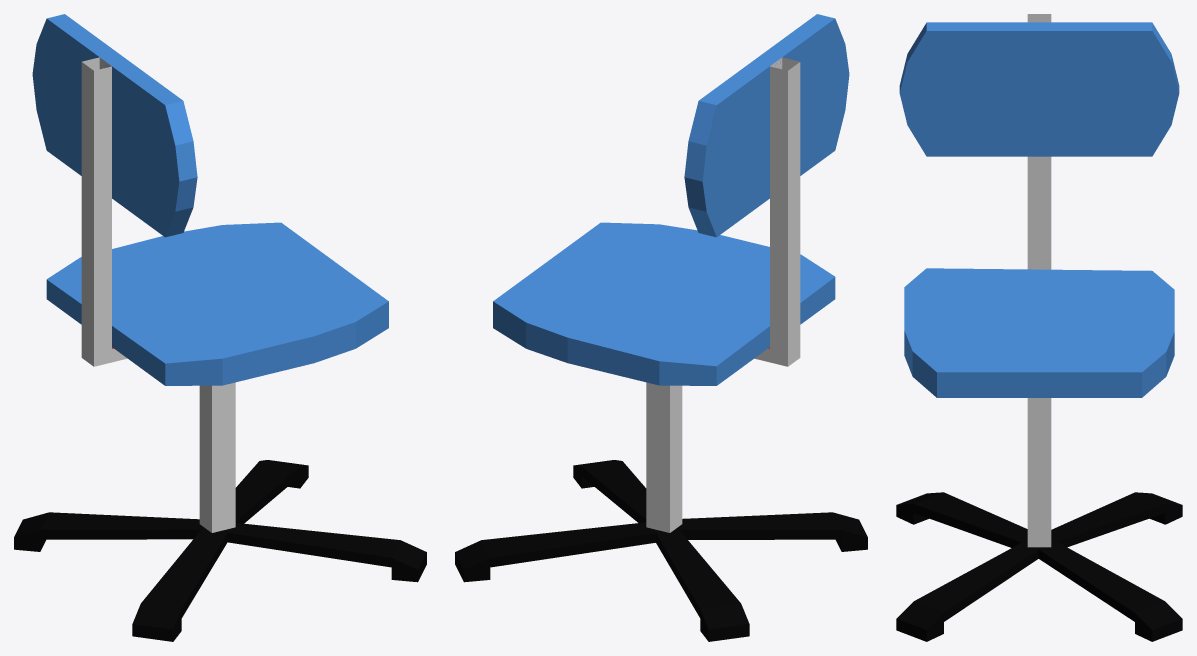
File: Swivel_Chair_Blue.fbx
3 renders of one model, left to right at view 1: azimuth 30°, elevation 25°; view 2: azimuth 150°, elevation 25°; view 3: azimuth 270°, elevation 25°, orthographic. The views are drawn at different scales.
Parts seen in each view (by area): view 1: Cube.002; view 2: Cube.002; view 3: Cube.002.
Boxes of the visible parts, bbox=[...] form: Cube.002: bbox=[14, 14, 426, 641]; Cube.002: bbox=[455, 14, 867, 641]; Cube.002: bbox=[896, 14, 1182, 641].
Size of the model in its own units: 165 by 280 by 146.
